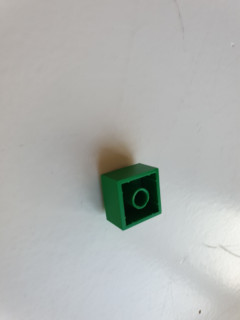2x2 green: (100, 162, 163, 231)
